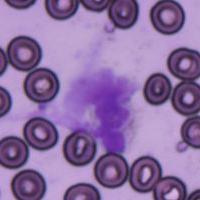D: (60, 65, 142, 154)
